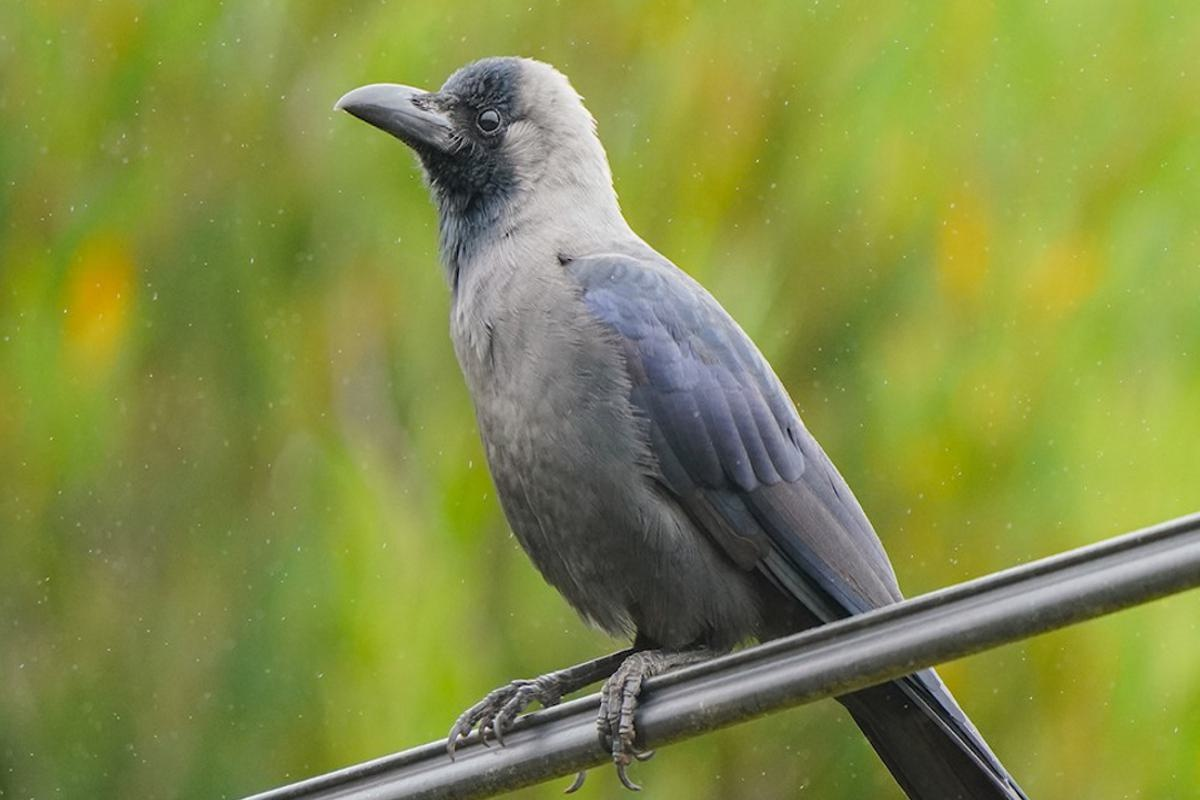crow: (324, 41, 1034, 800)
